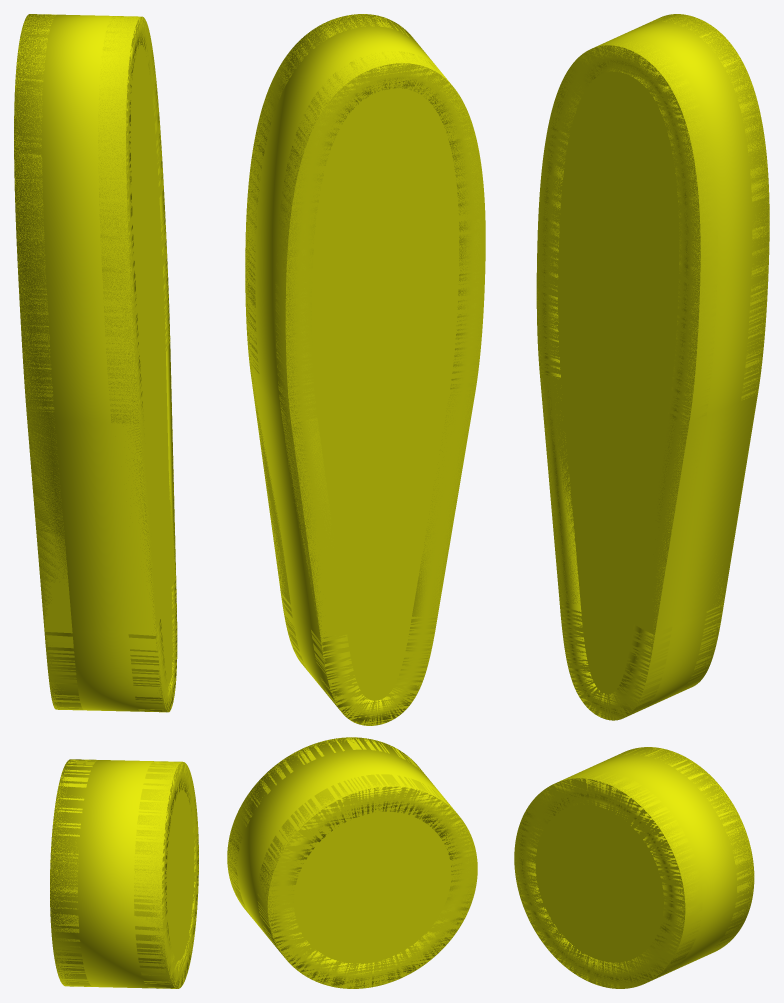
File: yellow-marker.fbx
3 renders of one model, left to right at view 1: azimuth 30°, elevation 25°; view 2: azimuth 150°, elevation 25°; view 3: azimuth 270°, elevation 25°, orthographic. The views are drawn at different scales.
Parts seen in each view (by area): view 1: Text; view 2: Text; view 3: Text.
Part boxes in pixels (x1=…): Text: x1=14, y1=14, x2=198, y2=988; Text: x1=227, y1=14, x2=485, y2=988; Text: x1=514, y1=14, x2=769, y2=988.
Size of the model in its own units: 85.64 by 354 by 88.52.
